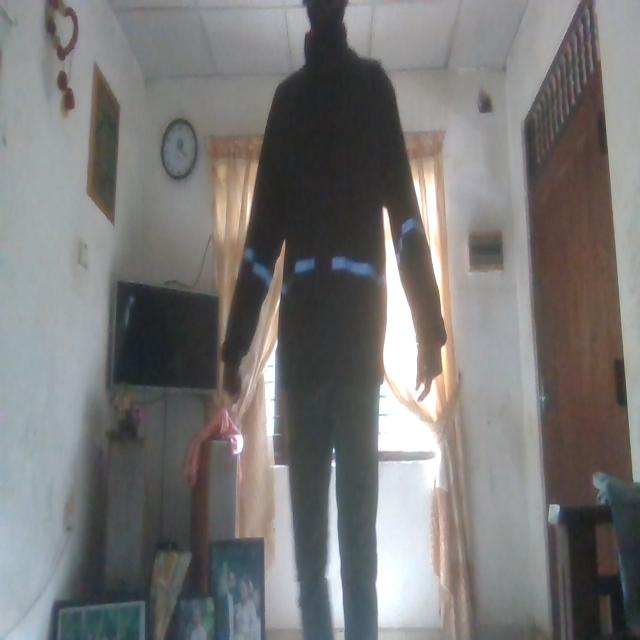Jacket_Wearer: (218, 53, 456, 409)
Person: (224, 0, 446, 639)
